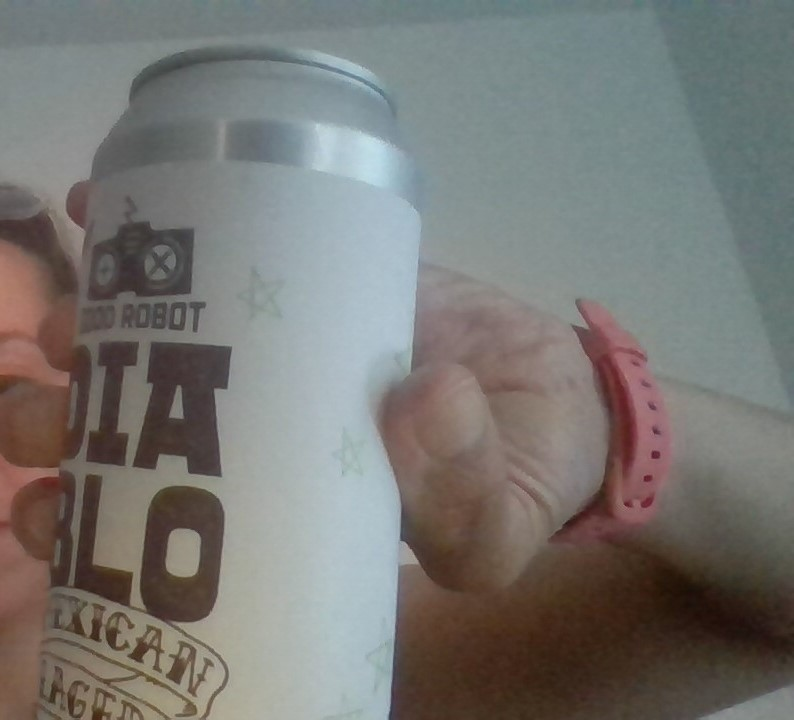Good Robot: (70, 197, 209, 300)
